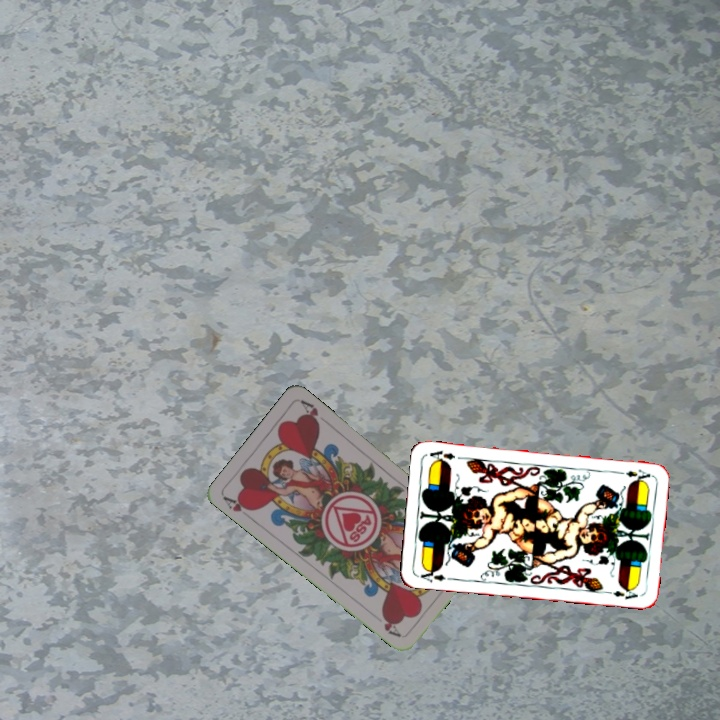EA: (417, 564, 455, 585), (613, 465, 653, 483)
HA: (219, 492, 256, 515)
